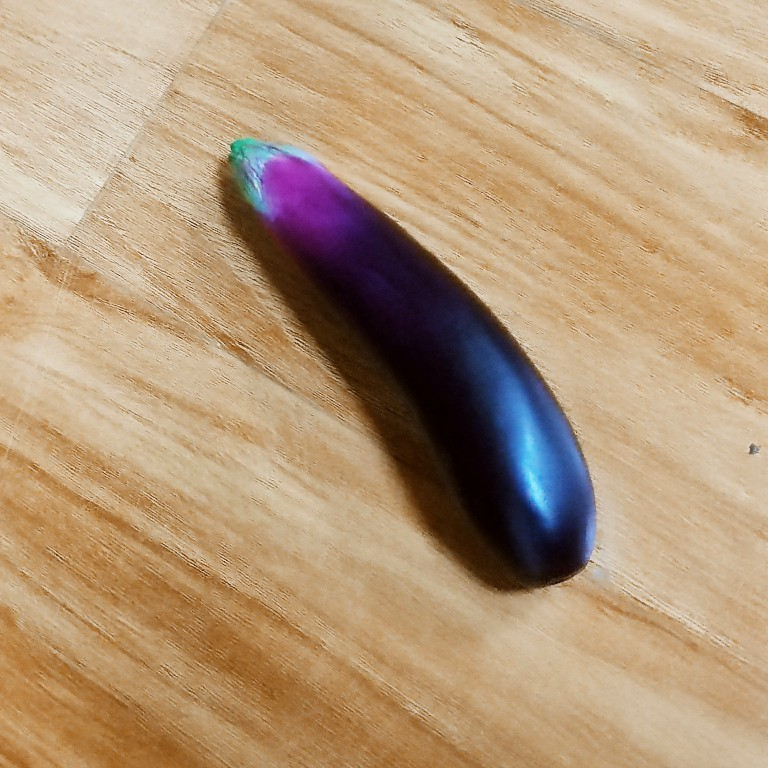fruit_eggplant: (224, 131, 601, 588)
